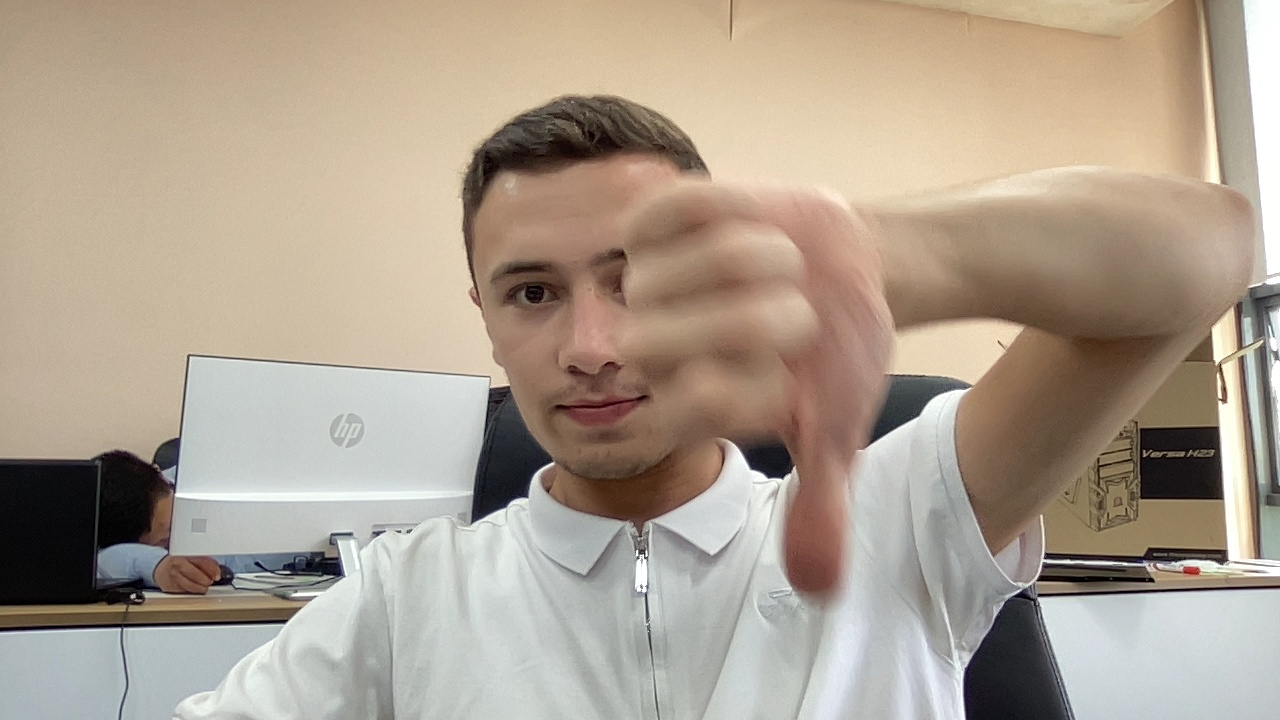thumbdown: (618, 176, 878, 608)
